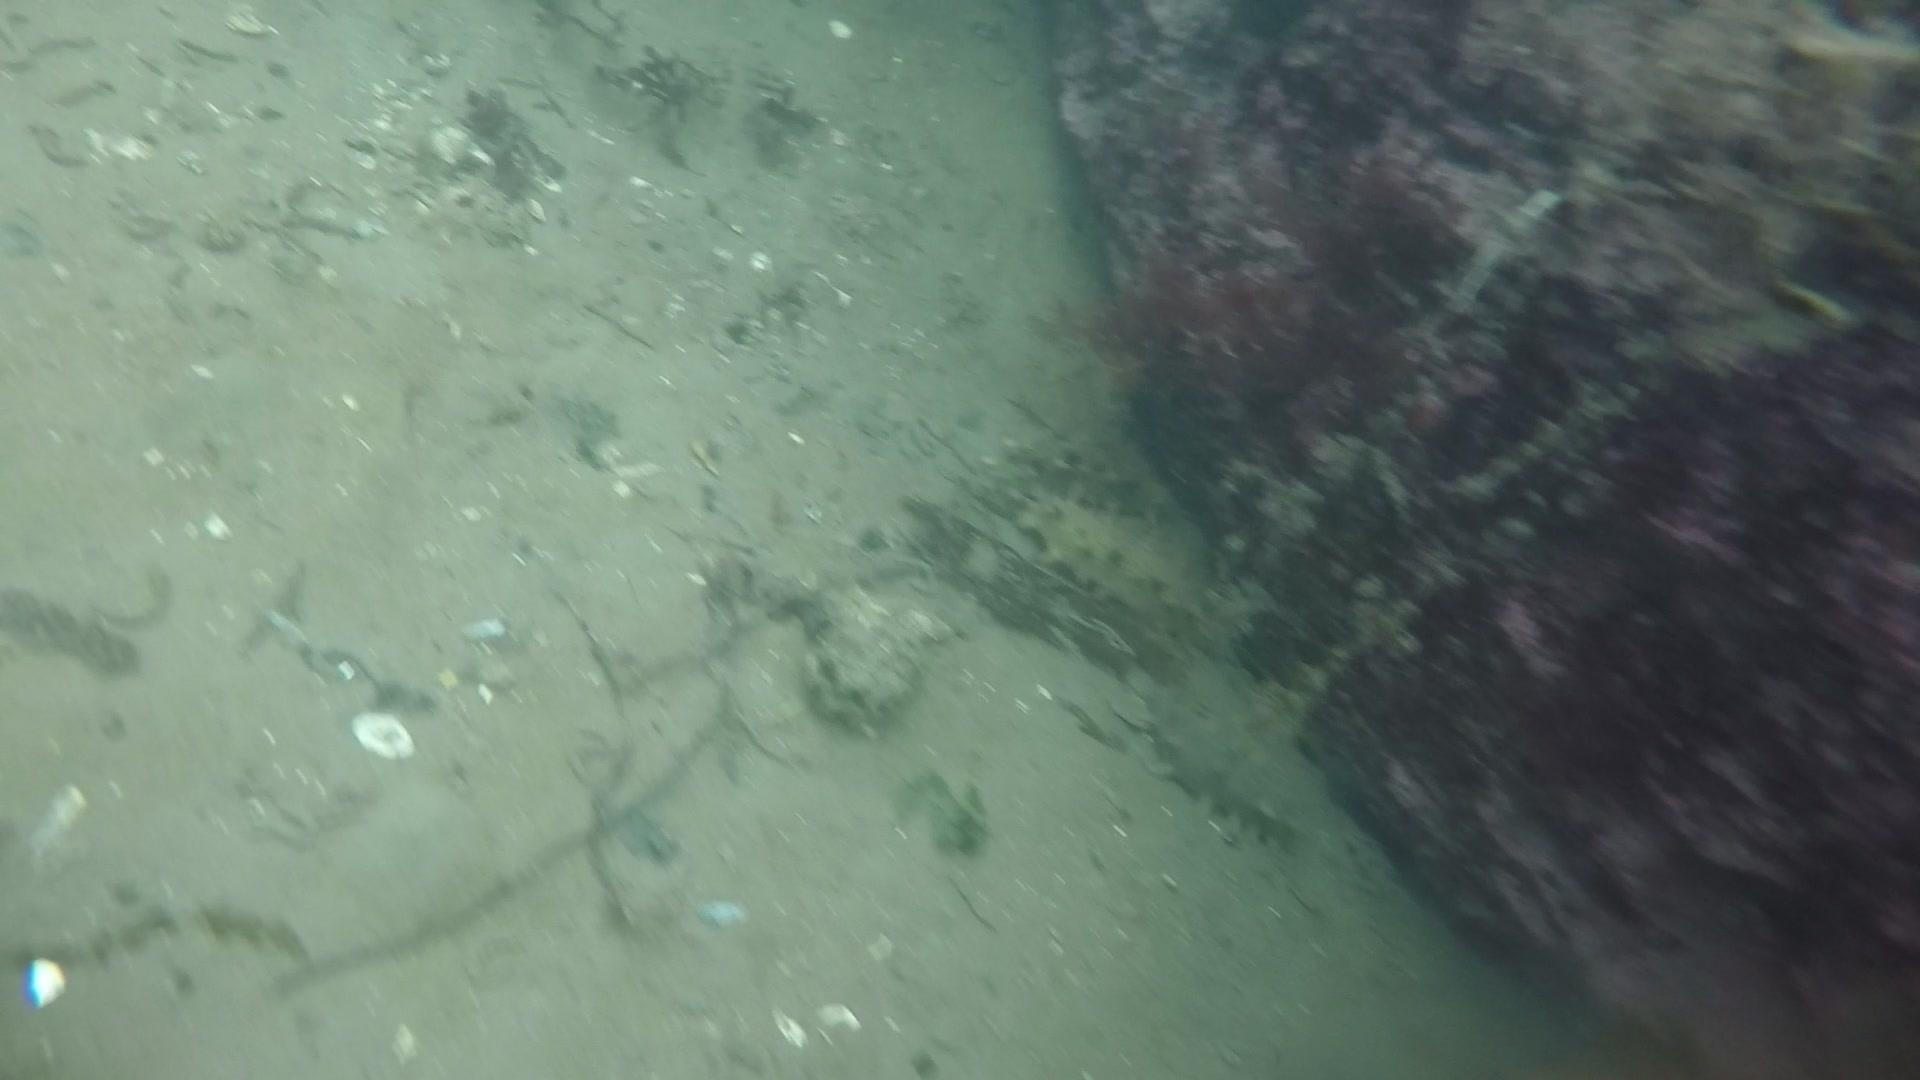holothurian: (1131, 655, 1316, 852), (1006, 483, 1215, 626), (971, 430, 1195, 534)
